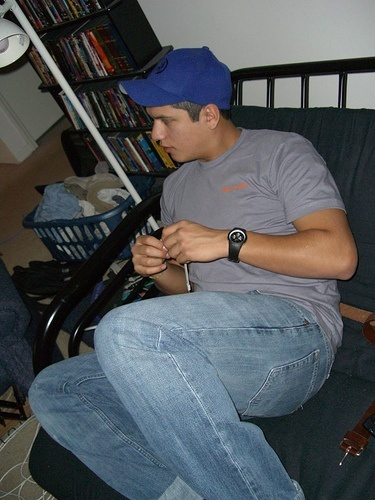head: (145, 47, 236, 164)
person: (23, 46, 357, 500)
